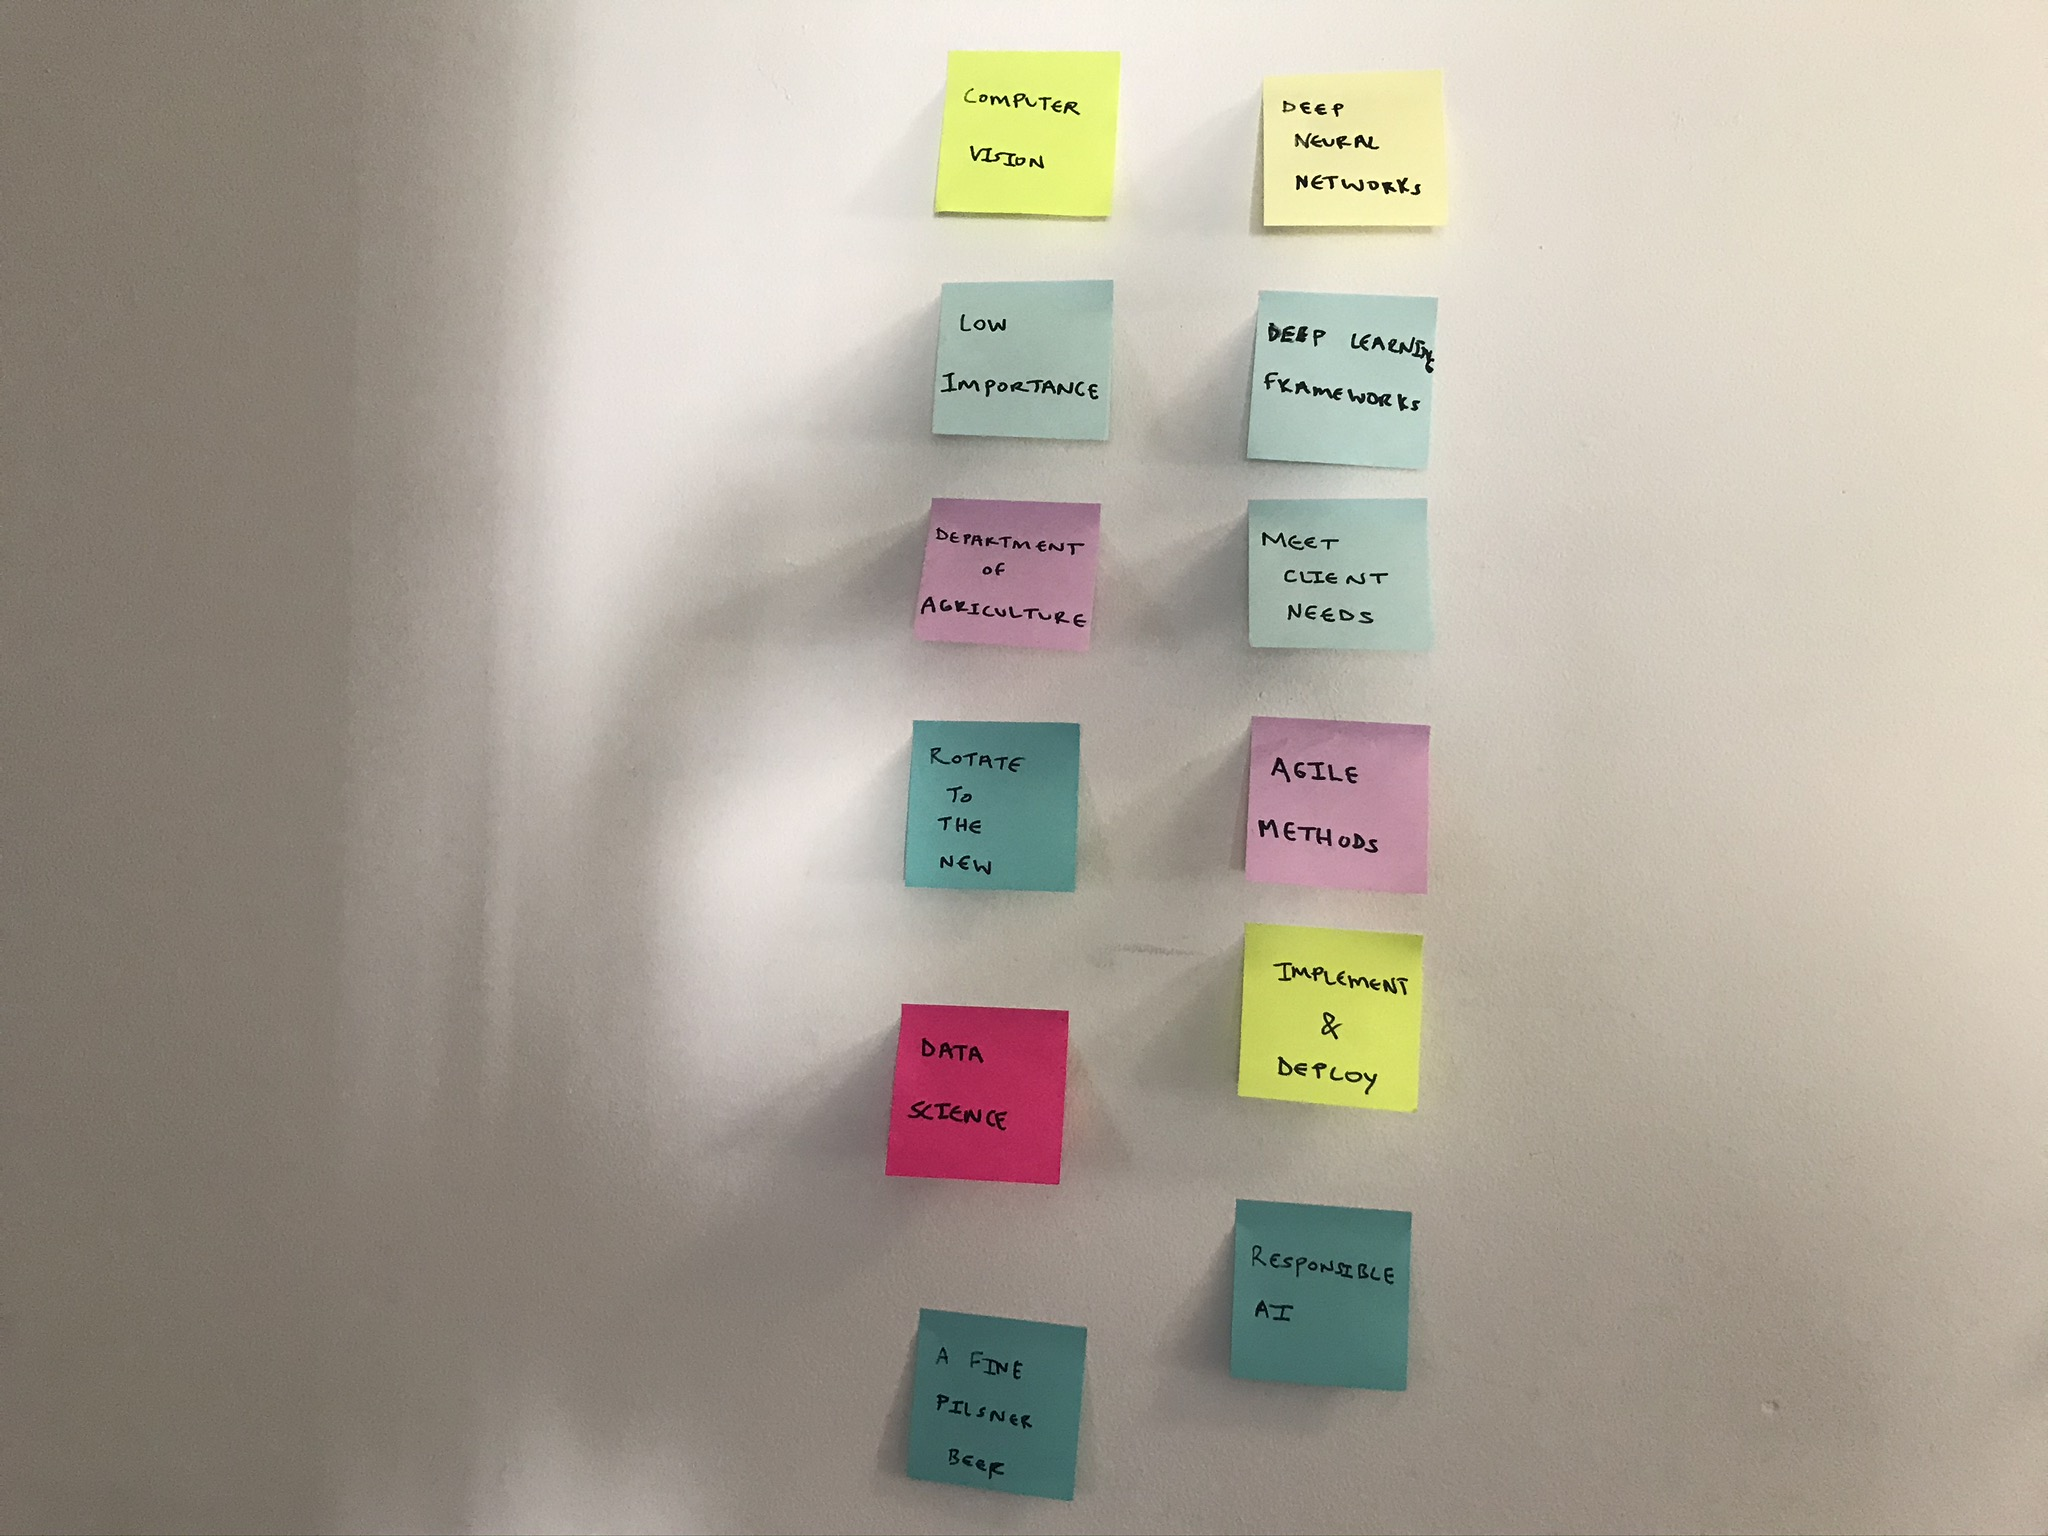sticky: (905, 1307, 1089, 1505), (1235, 923, 1422, 1115), (1229, 1200, 1413, 1392), (1243, 289, 1437, 470), (885, 1002, 1071, 1187), (1243, 715, 1430, 892), (934, 50, 1121, 223), (901, 720, 1080, 894), (1258, 69, 1451, 229), (929, 281, 1118, 442), (913, 499, 1101, 657), (1247, 497, 1429, 653)
